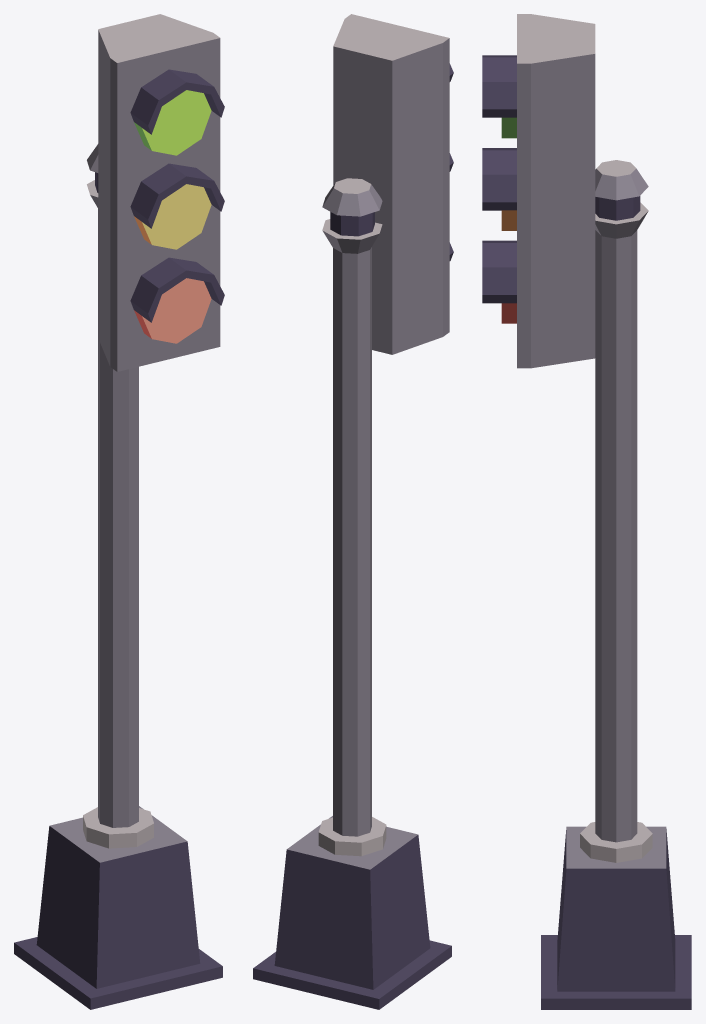
The model's file is traffic lightss fbx.fbx.
The picture shows the model from 3 angles, left to right: view 1: azimuth 30°, elevation 25°; view 2: azimuth 150°, elevation 25°; view 3: azimuth 270°, elevation 25°; orthographic projection. The views are drawn at different scales.
Visible parts, largest first — view 1: pCube1, pCube2, pCylinder1, pCylinder3, pCylinder4, pCylinder2, pCube3, pCube4, pCube5; view 2: pCube2, pCylinder1, pCube1; view 3: pCylinder1, pCube2, pCube1, pCube3, pCube4, pCube5.
Boxes of the visible parts, x1,y1,x2,y2 form: pCube1: [14, 806, 222, 1009]; pCube2: [98, 14, 220, 371]; pCylinder1: [83, 144, 153, 848]; pCylinder3: [134, 184, 211, 249]; pCylinder4: [134, 90, 211, 155]; pCylinder2: [134, 278, 211, 343]; pCube3: [130, 257, 224, 322]; pCube4: [130, 163, 224, 228]; pCube5: [130, 69, 224, 134]; pCube2: [333, 14, 449, 354]; pCylinder1: [318, 178, 386, 856]; pCube1: [253, 816, 451, 1009]; pCylinder1: [580, 160, 652, 862]; pCube2: [517, 14, 595, 368]; pCube1: [541, 826, 691, 1009]; pCube3: [482, 240, 516, 303]; pCube4: [482, 148, 516, 210]; pCube5: [482, 55, 516, 117].
Bounding box in the file's own units: 2.21 × 15.19 × 3.07.
